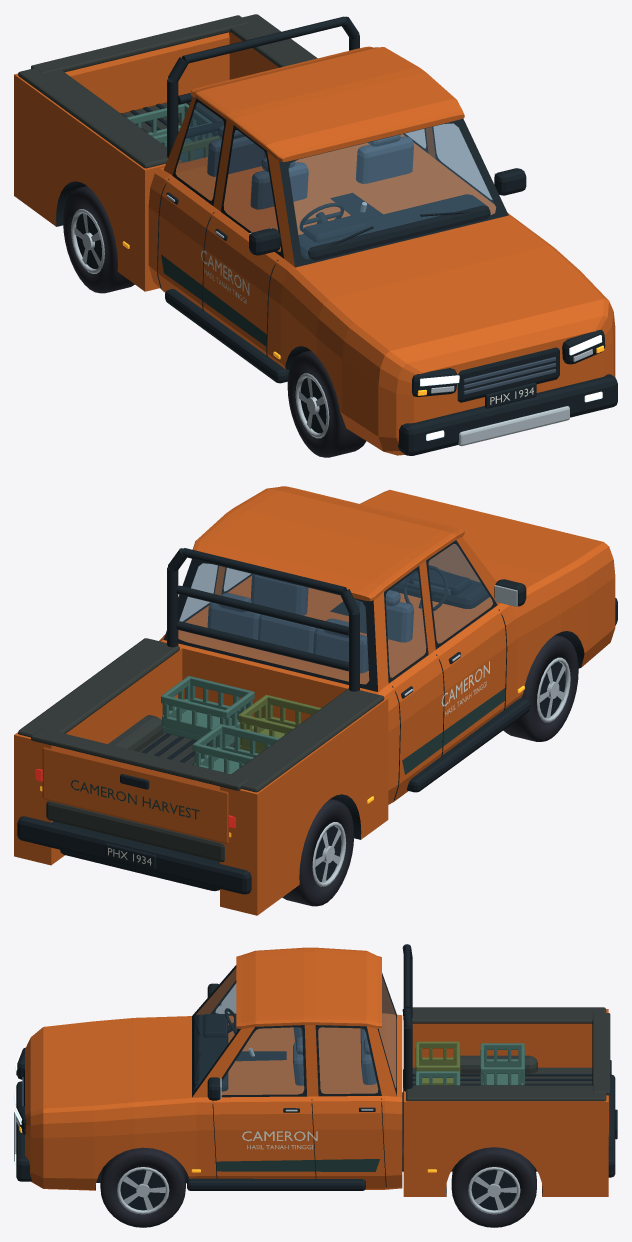
3 views of the same model, one above another, from view 1: azimuth 30°, elevation 25°; view 2: azimuth 150°, elevation 25°; view 3: azimuth 270°, elevation 25° (orthographic). The views are drawn at different scales.
Visible parts, largest first — view 1: Cameron Harvest Farm Pickup; view 2: Cameron Harvest Farm Pickup; view 3: Cameron Harvest Farm Pickup.
Boxes of the visible parts, x1=… form: Cameron Harvest Farm Pickup: x1=14, y1=14, x2=617, y2=457; Cameron Harvest Farm Pickup: x1=14, y1=486, x2=617, y2=915; Cameron Harvest Farm Pickup: x1=14, y1=944, x2=617, y2=1227.
Size of the model in its own units: 2.14 by 1.99 by 5.25.
